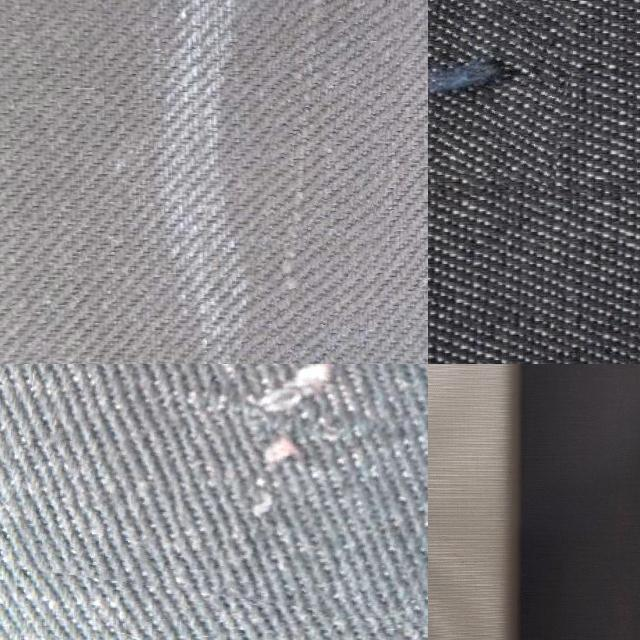Thread_other: (0, 364, 428, 623), (254, 0, 402, 364), (428, 0, 573, 180)
